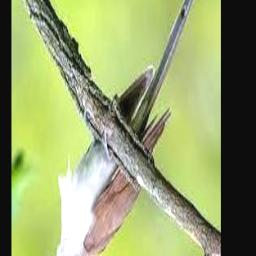Cuckoo: (47, 0, 201, 256)
